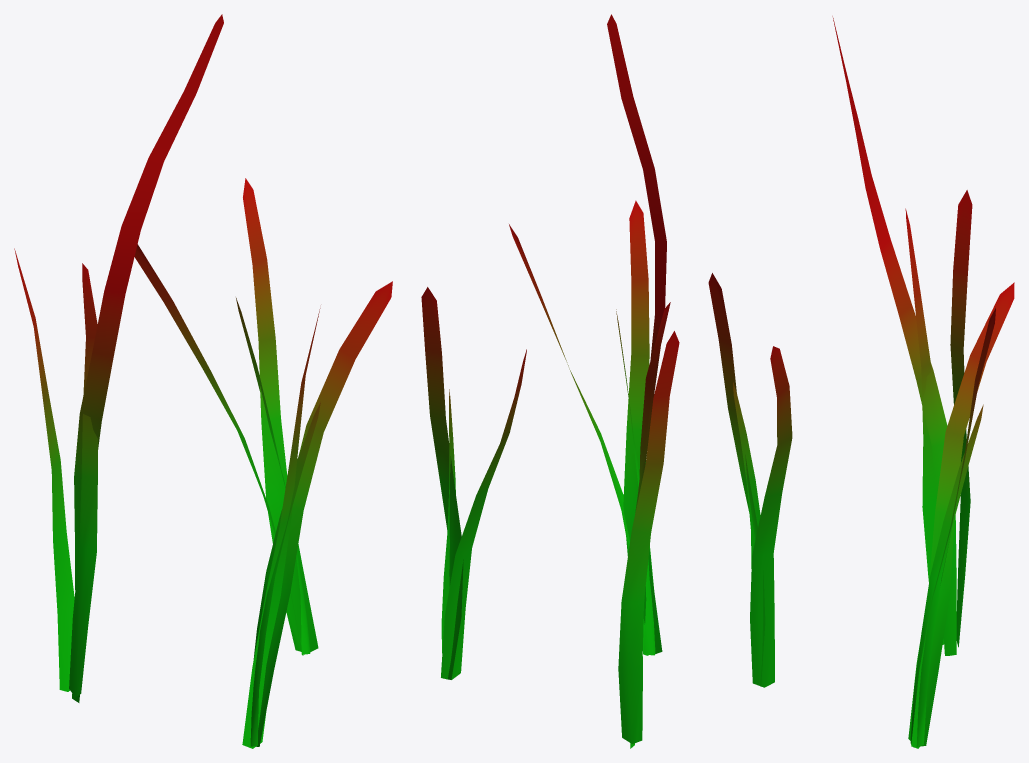
Rendered from Kikuyu Grass_LOD0_Var17_wiljearqx.fbx.
3 renders of one model, left to right at view 1: azimuth 30°, elevation 25°; view 2: azimuth 150°, elevation 25°; view 3: azimuth 270°, elevation 25°, orthographic. The views are drawn at different scales.
Visible parts, largest first — view 1: _mvy6_Var17_LOD0; view 2: _mvy6_Var17_LOD0; view 3: _mvy6_Var17_LOD0.
Boxes of the visible parts, x1,y1,x2,y2 form: _mvy6_Var17_LOD0: (14,14,392,748); _mvy6_Var17_LOD0: (421,14,679,748); _mvy6_Var17_LOD0: (708,16,1014,748).
Bounding box in the file's own units: 4.9 × 11.98 × 4.88.
